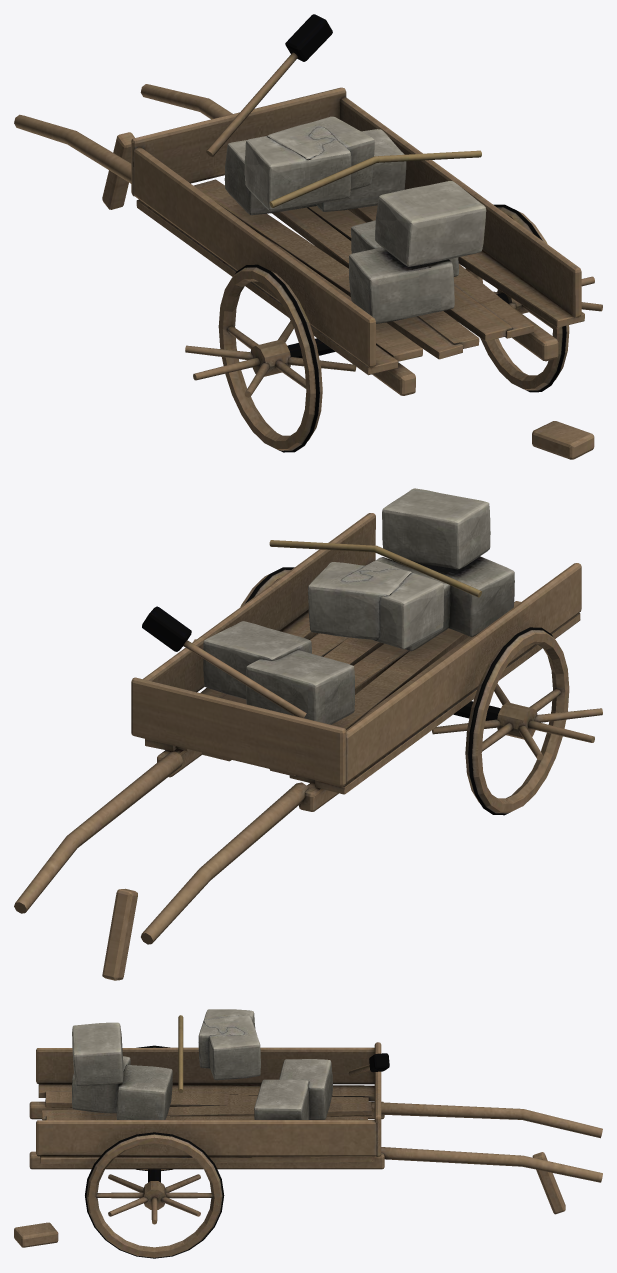
The model's file is vale_carroca_pedreiro.glb.
3 views of the same model, one above another, from view 1: azimuth 30°, elevation 25°; view 2: azimuth 150°, elevation 25°; view 3: azimuth 270°, elevation 25° (orthographic). The views are drawn at different scales.
Visible parts, largest first — view 1: vale_carroca_pedreiro_tronco; view 2: vale_carroca_pedreiro_tronco; view 3: vale_carroca_pedreiro_tronco.
Boxes of the visible parts, x1,y1,x2,y2 form: vale_carroca_pedreiro_tronco: [14, 14, 602, 459]; vale_carroca_pedreiro_tronco: [14, 488, 602, 980]; vale_carroca_pedreiro_tronco: [14, 1009, 602, 1258].
Bounding box in the file's own units: 2.52 × 1.6 × 4.48.
Materials: 1 (1 with a texture image).
